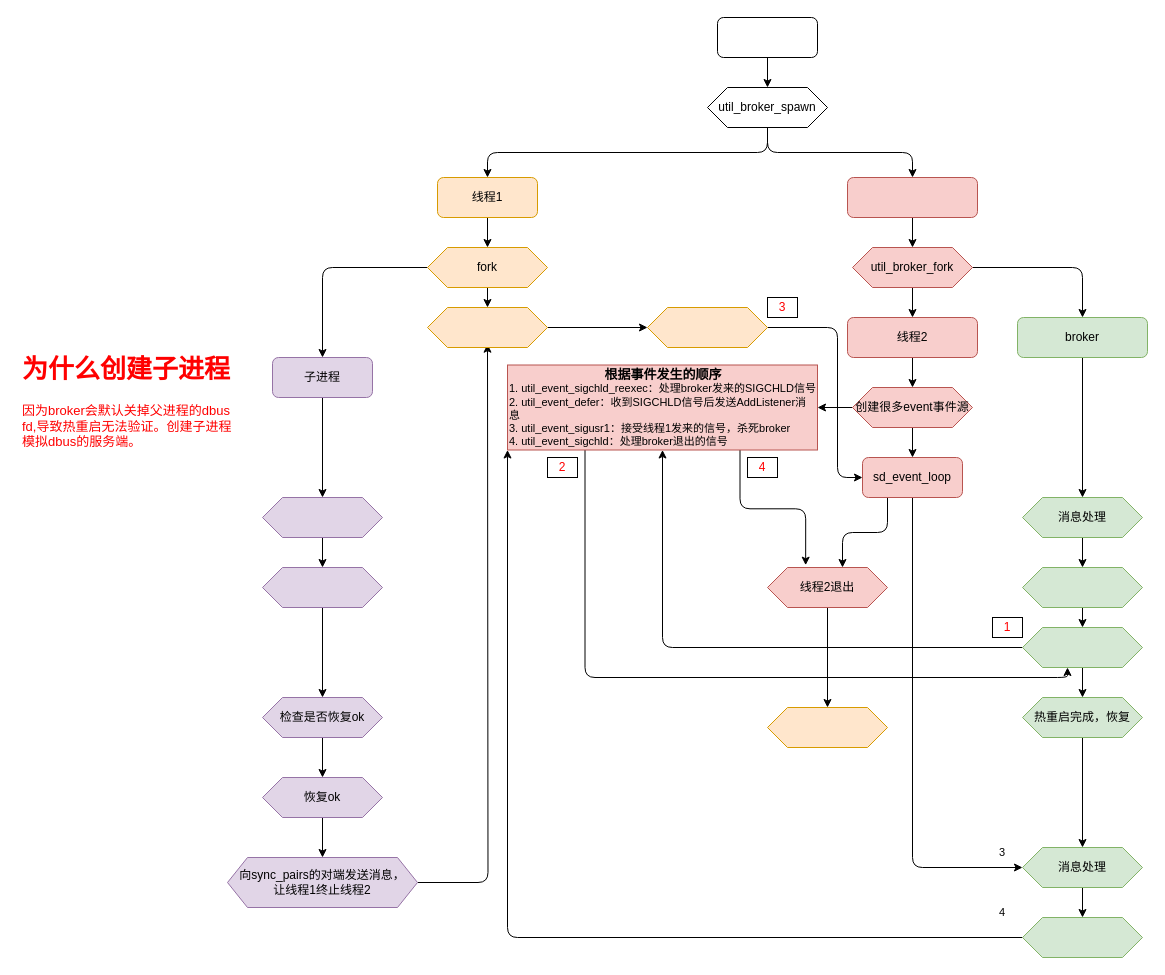
Some shapes in this 1165 by 975 pixel diagram are drawn without their labels. Each missing label, with the centre of its shape:
test-reexecute: the point at 767,37
util_broker_terminate: the point at 707,327
与broker建连: the point at 322,517
发送Reexecute: the point at 322,587
发送SIGCHLD信号: the point at 1082,647
收到Reexecute 热重启: the point at 1082,587
线程1退出: the point at 827,727
线程2：util_broker_thread: the point at 912,197
退出: the point at 1082,937
阻塞读取sync_pairs: the point at 487,327
